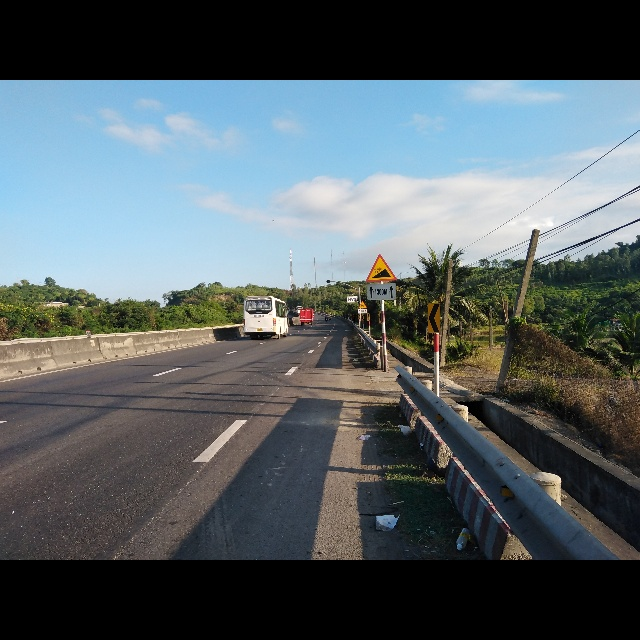Dốc lên nguy hiểm: (365, 254, 397, 282)
